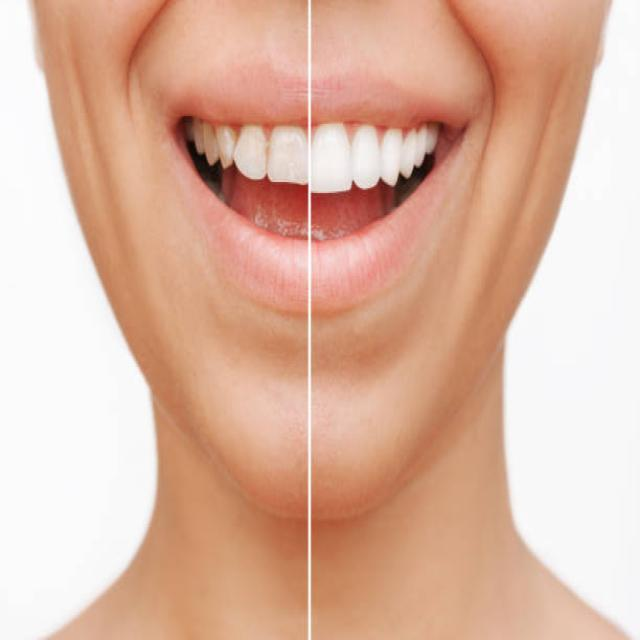tooth: (308, 118, 352, 190), (268, 126, 310, 185), (354, 124, 381, 193), (237, 124, 264, 180), (384, 130, 404, 193), (398, 132, 416, 169), (203, 126, 216, 163), (214, 130, 230, 157), (189, 120, 203, 150), (416, 125, 427, 160)
